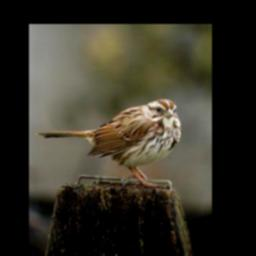Sparrow: (37, 98, 181, 188)
